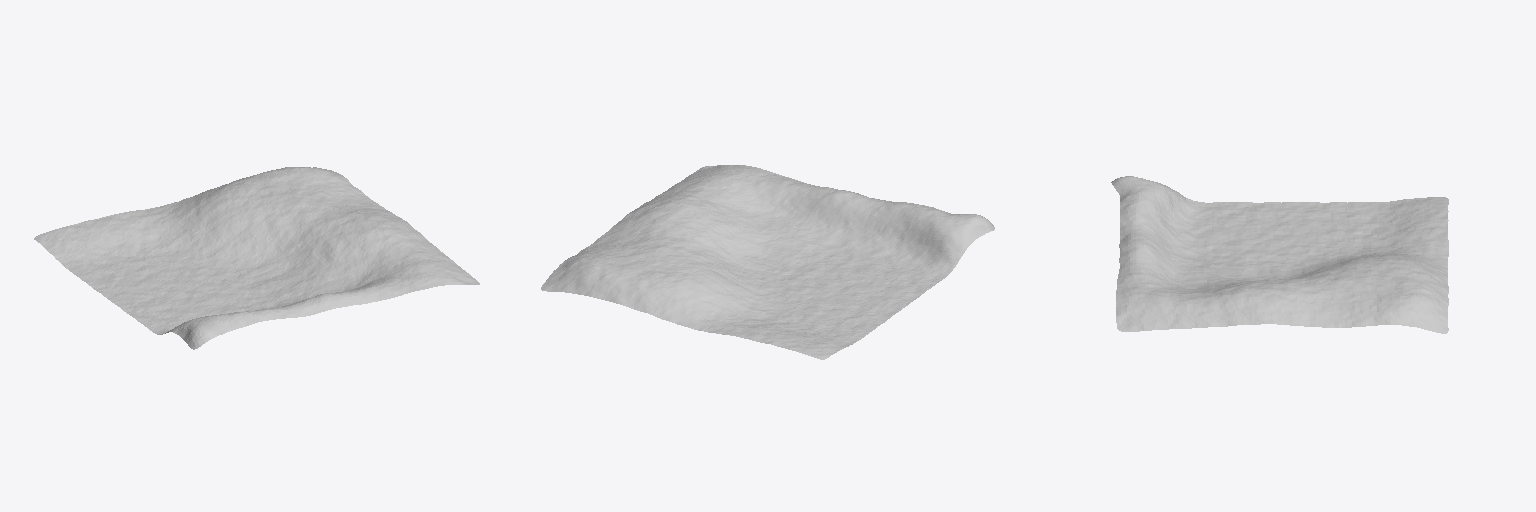
Rendered from firsttry.obj.
3 views of the same model, side by side, from view 1: azimuth 30°, elevation 25°; view 2: azimuth 150°, elevation 25°; view 3: azimuth 270°, elevation 25° (orthographic).
Parts seen in each view (by area): view 1: Plane; view 2: Plane; view 3: Plane.
Part boxes in pixels (x1,y1,x2,y2): Plane: (34, 167, 479, 349); Plane: (541, 165, 994, 359); Plane: (1111, 176, 1448, 333).
Bounding box in the file's own units: 20.42 × 2.08 × 20.5.